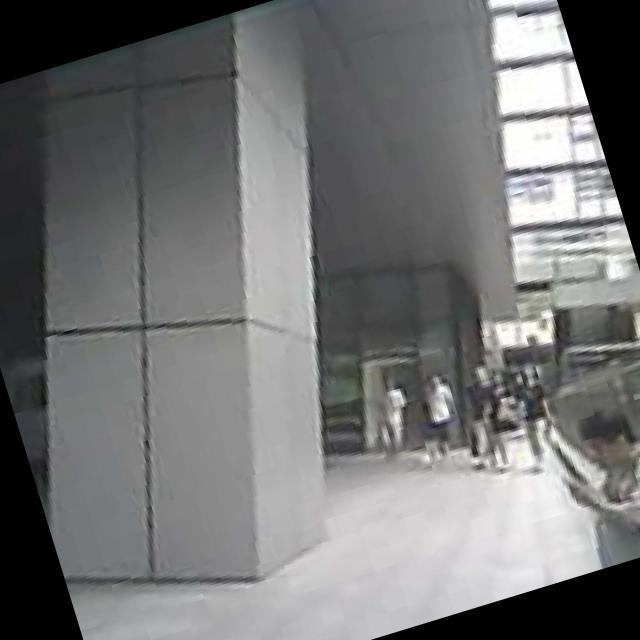person: (545, 389, 640, 572), (456, 361, 518, 476), (506, 360, 568, 474), (412, 369, 472, 462), (367, 366, 423, 464)
